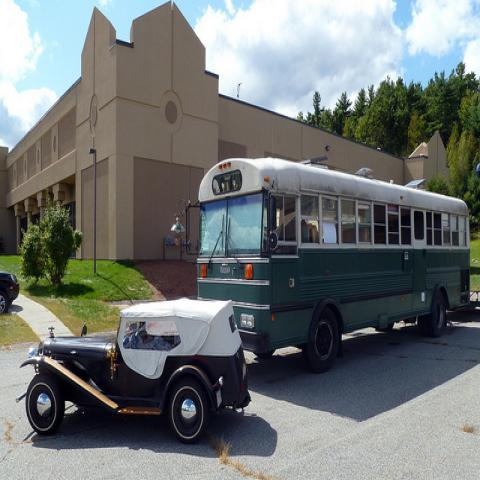bus: (197, 156, 471, 374)
car: (18, 301, 252, 440), (0, 270, 20, 315)
